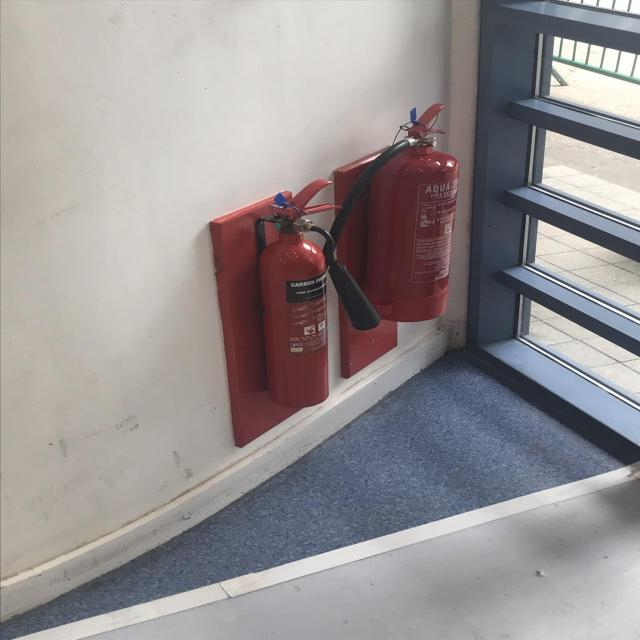fire_extinguisher: (315, 100, 465, 330), (244, 175, 388, 410)
